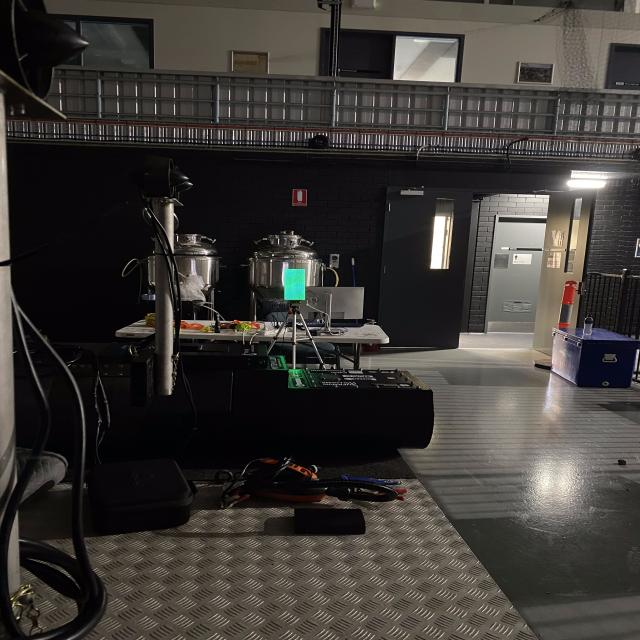matrix: (283, 266, 306, 302)
